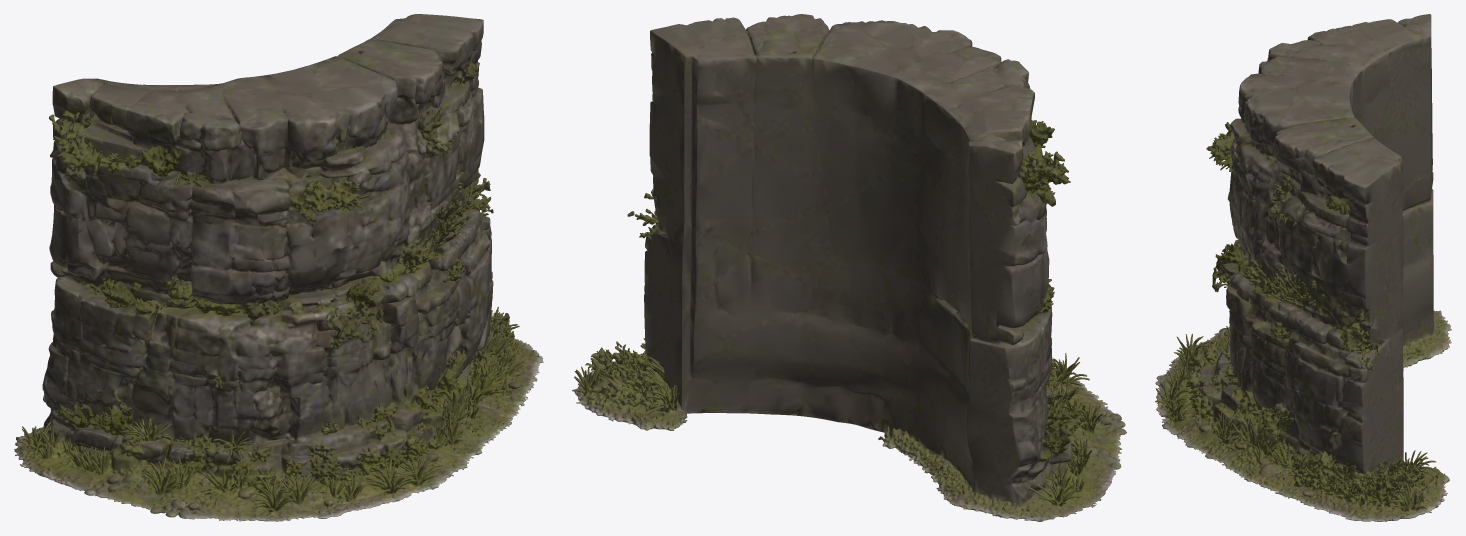
Rendered from Meshy_AI_cliff_curved_b_0823030531_image-to-3d-texture.glb.
The picture shows the model from 3 angles, left to right: view 1: azimuth 30°, elevation 25°; view 2: azimuth 150°, elevation 25°; view 3: azimuth 270°, elevation 25°; orthographic projection. The views are drawn at different scales.
Visible parts, largest first — view 1: mesh_node; view 2: mesh_node; view 3: mesh_node.
Part boxes in pixels (bbox=[...]): mesh_node: bbox=[14, 14, 543, 521]; mesh_node: bbox=[572, 14, 1126, 521]; mesh_node: bbox=[1155, 14, 1451, 521].
Bounding box in the file's own units: 1.91 × 1.28 × 1.09.
Materials: 1 (1 with a texture image).
